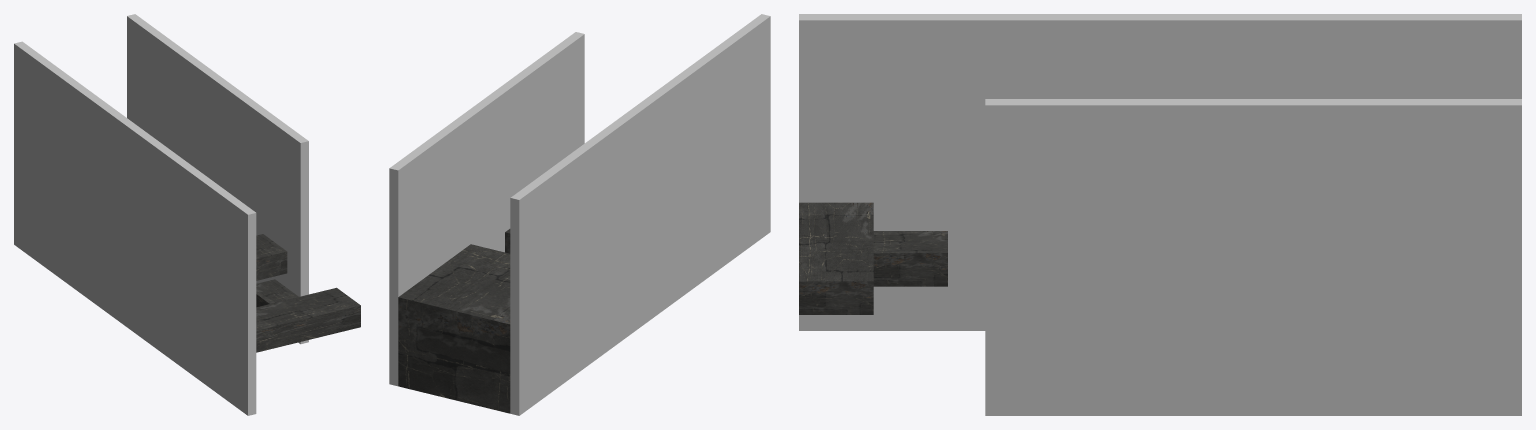
The picture shows the model from 3 angles, left to right: view 1: azimuth 30°, elevation 25°; view 2: azimuth 150°, elevation 25°; view 3: azimuth 270°, elevation 25°; orthographic projection. The views are drawn at different scales.
Visible parts, largest first — view 1: 立方体.005, 立方体.006, 立方体.007, 立方体.003, 立方体.004; view 2: 立方体.005, 立方体.006, 立方体; view 3: 立方体.006, 立方体.005, 立方体.007, 立方体.004.
Part boxes in pixels (bbox=[...]): 立方体.005: bbox=[14, 41, 256, 415]; 立方体.006: bbox=[127, 14, 308, 344]; 立方体.007: bbox=[256, 287, 360, 352]; 立方体.003: bbox=[256, 234, 287, 280]; 立方体.004: bbox=[256, 279, 298, 307]; 立方体.005: bbox=[510, 14, 770, 415]; 立方体.006: bbox=[389, 32, 584, 386]; 立方体: bbox=[398, 244, 510, 413]; 立方体.006: bbox=[985, 99, 1521, 415]; 立方体.005: bbox=[799, 14, 1521, 330]; 立方体.007: bbox=[799, 202, 873, 314]; 立方体.004: bbox=[873, 231, 947, 286].
Size of the model in its own units: 29 by 46 by 97.
